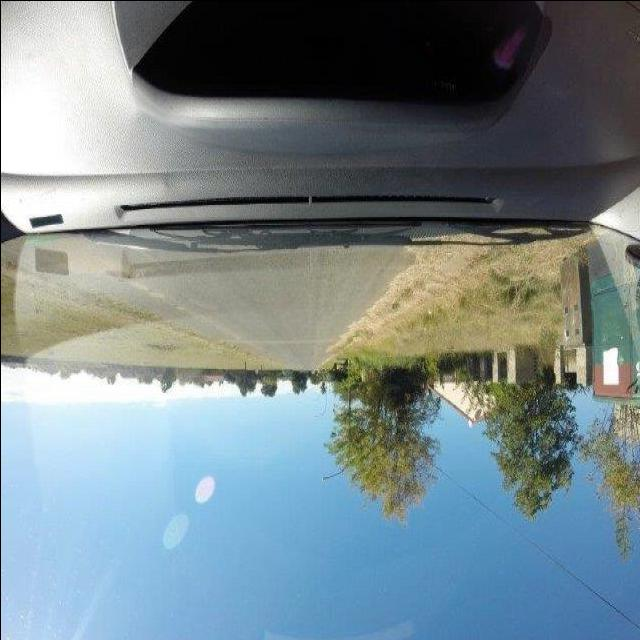lubang: (106, 264, 142, 282)
